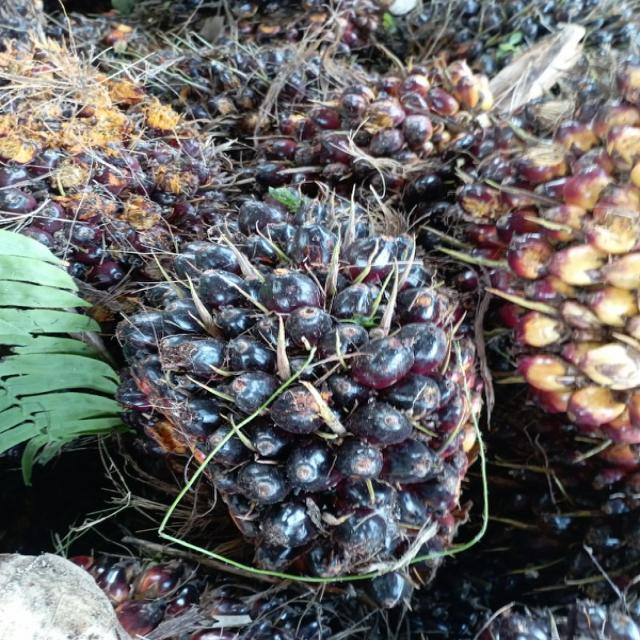fraksi 00: (118, 190, 482, 584)
